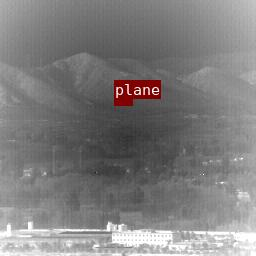plane: (114, 99, 132, 105)
